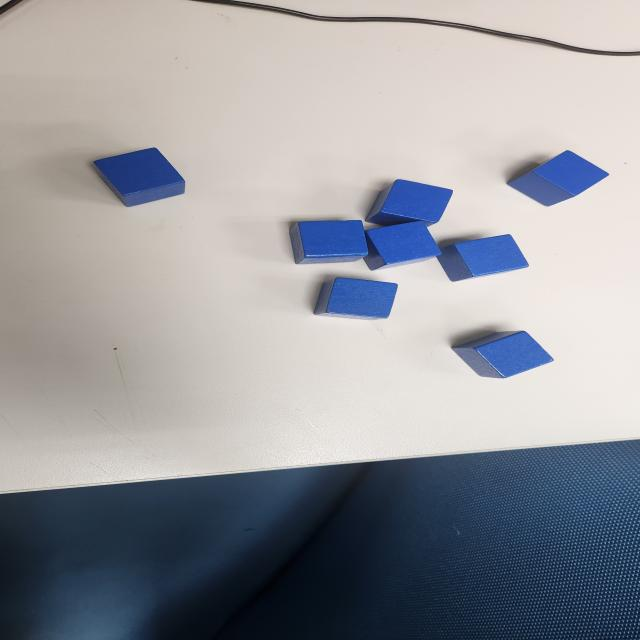blue: (506, 149, 610, 209), (92, 147, 186, 208), (450, 330, 554, 379), (435, 233, 530, 282), (366, 179, 454, 227), (361, 220, 442, 270), (314, 277, 399, 319), (289, 220, 369, 264)
